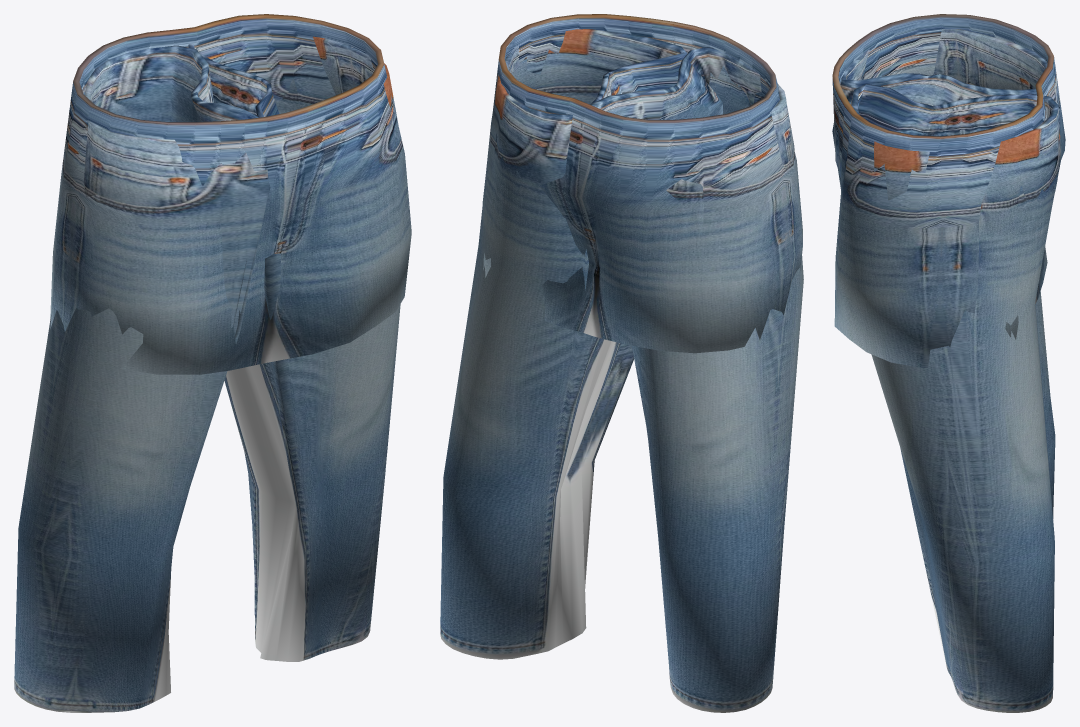
3 views of the same model, side by side, from view 1: azimuth 30°, elevation 25°; view 2: azimuth 150°, elevation 25°; view 3: azimuth 270°, elevation 25° (orthographic). The views are drawn at different scales.
Visible parts, largest first — view 1: garment_leg0; view 2: garment_leg0; view 3: garment_leg0.
Part boxes in pixels (bbox=[...]): garment_leg0: bbox=[14, 14, 411, 712]; garment_leg0: bbox=[440, 14, 803, 712]; garment_leg0: bbox=[832, 14, 1065, 712].
Bounding box in the file's own units: 0.4492 × 0.7726 × 0.2885.
1 material, 1 textured.
